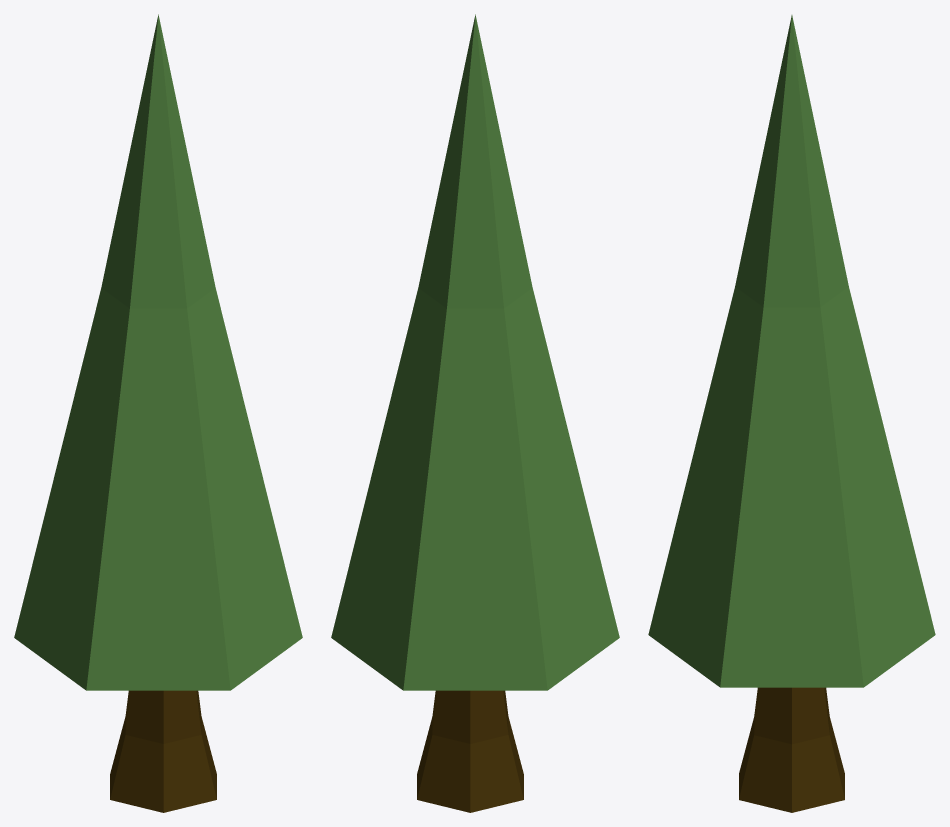
File: Tree_5.fbx
3 views of the same model, side by side, from view 1: azimuth 30°, elevation 25°; view 2: azimuth 150°, elevation 25°; view 3: azimuth 270°, elevation 25° (orthographic).
Visible parts, largest first — view 1: Tree_5; view 2: Tree_5; view 3: Tree_5.
Part boxes in pixels (x1,y1,x2,y2): Tree_5: (14,14,302,812); Tree_5: (331,14,619,812); Tree_5: (648,15,935,812).
Bounding box in the file's own units: 4.06 × 13.86 × 4.68.
